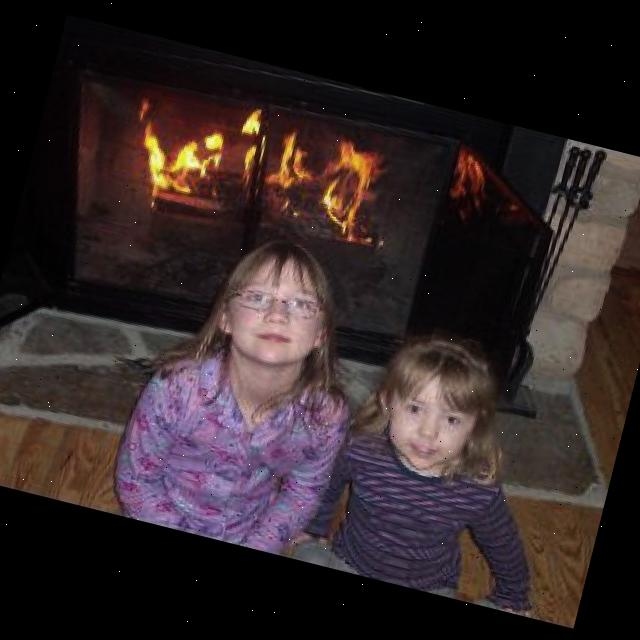fire: (114, 74, 410, 261), (440, 138, 520, 227)
